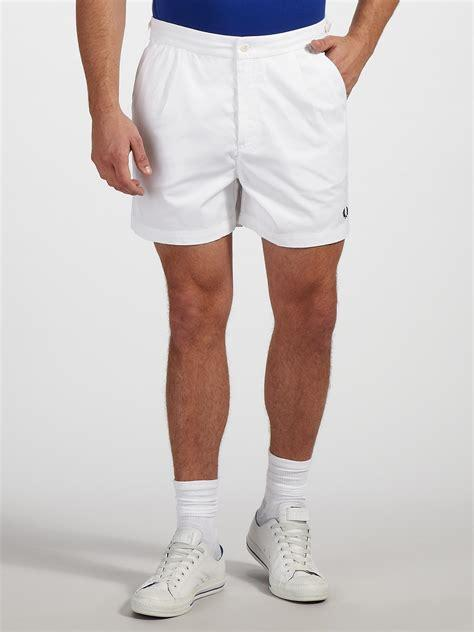short: (132, 15, 352, 246)
